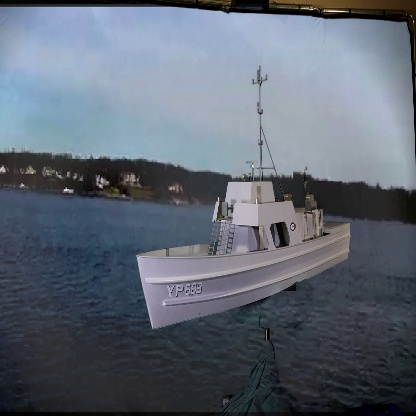YP689: (135, 65, 352, 330)
